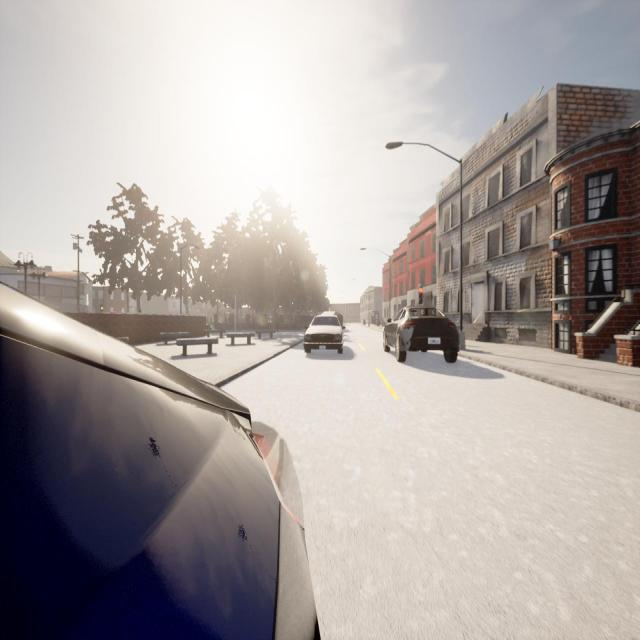Vehicle: (0, 279, 318, 639), (383, 305, 459, 363), (303, 316, 345, 354), (320, 311, 343, 327)
traffic_light: (419, 286, 423, 304), (100, 303, 104, 312)
